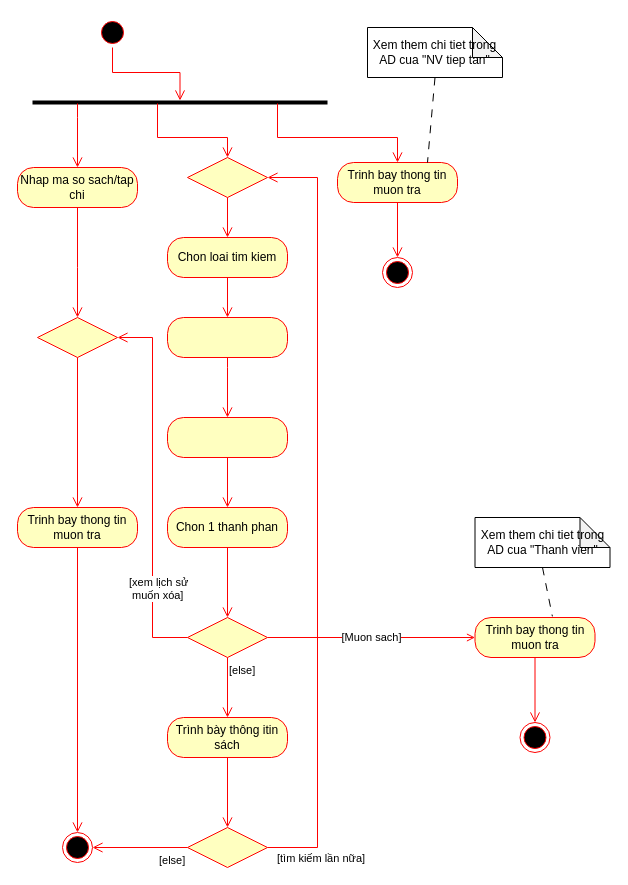
This 628x885 diagram has some shape labels left out. Each missing label, with the centre of its shape:
"Condition" goes at (x=227, y=847).
"Liet ke danh sách kết quả" goes at (x=227, y=437).
"Nhap thong tin can truy van" goes at (x=227, y=337).
